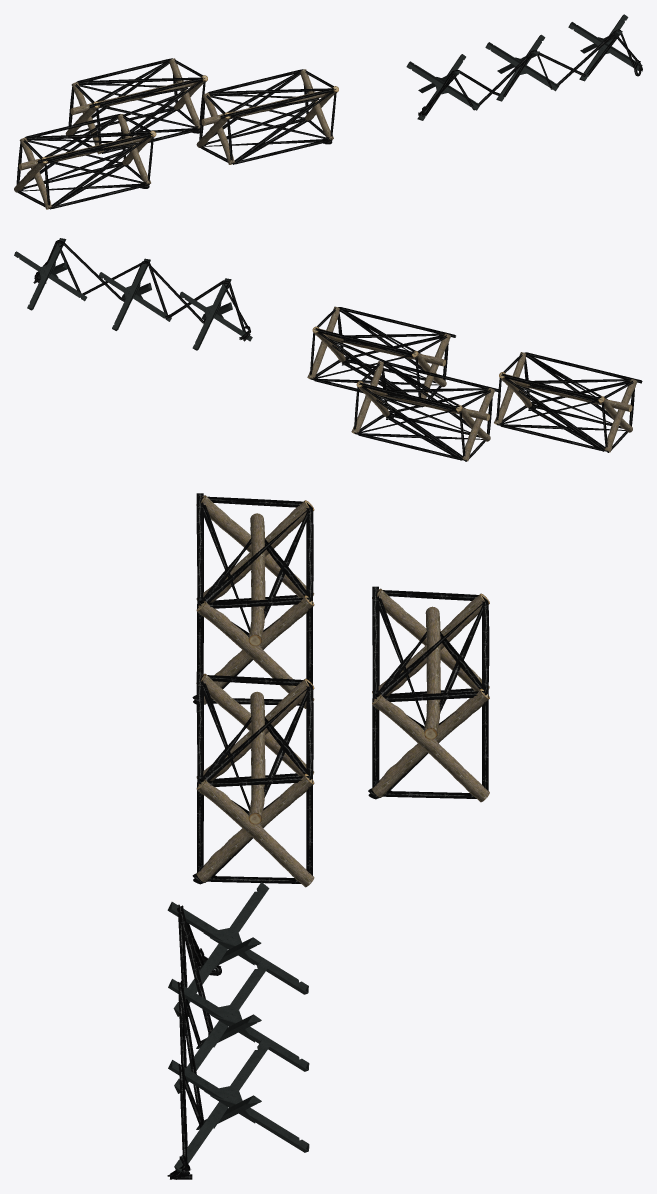
The model's file is hedgehog_tank_trap_and_barbed_wire_obstacles.glb.
3 renders of one model, top to bottom at view 1: azimuth 30°, elevation 25°; view 2: azimuth 150°, elevation 25°; view 3: azimuth 270°, elevation 25°, orthographic. The views are drawn at different scales.
Parts seen in each view (by area): view 1: LogTrap_5, LogTrap.001_10, LogTrap.002_11, Hedgehog.001_2, Hedgehog_1, Wire_0, Hedgehog.002_3, Wire.001_4; view 2: LogTrap.001_10, LogTrap.002_11, LogTrap_5, Hedgehog_1, Hedgehog.001_2, Hedgehog.002_3, Wire.001_4, Wire_0; view 3: LogTrap.002_11, LogTrap_5, LogTrap.001_10, Hedgehog_1, Hedgehog.001_2, Hedgehog.002_3, Wire.001_4, Wire_0.
Part boxes in pixels (bbox=[...]): LogTrap_5: bbox=[196, 69, 338, 164]; LogTrap.001_10: bbox=[14, 114, 156, 209]; LogTrap.002_11: bbox=[65, 58, 207, 154]; Hedgehog.001_2: bbox=[485, 34, 559, 101]; Hedgehog_1: bbox=[568, 14, 642, 81]; Wire_0: bbox=[418, 29, 640, 116]; Hedgehog.002_3: bbox=[406, 54, 480, 120]; Wire.001_4: bbox=[421, 30, 642, 114]; LogTrap.001_10: bbox=[494, 352, 642, 452]; LogTrap.002_11: bbox=[351, 361, 499, 461]; LogTrap_5: bbox=[307, 306, 455, 407]; Hedgehog_1: bbox=[14, 238, 87, 310]; Hedgehog.001_2: bbox=[99, 258, 171, 330]; Hedgehog.002_3: bbox=[179, 278, 252, 350]; Wire.001_4: bbox=[33, 240, 250, 332]; Wire_0: bbox=[34, 240, 250, 341]; LogTrap.002_11: bbox=[368, 586, 489, 802]; LogTrap_5: bbox=[192, 671, 314, 887]; LogTrap.001_10: bbox=[192, 493, 314, 708]; Hedgehog_1: bbox=[168, 1040, 309, 1172]; Hedgehog.001_2: bbox=[168, 959, 309, 1093]; Hedgehog.002_3: bbox=[167, 882, 308, 1016]; Wire.001_4: bbox=[167, 904, 213, 1179]; Wire_0: bbox=[178, 904, 221, 1170].
Size of the model in its own units: 12.68 by 1.12 by 2.93.
4 materials, 4 textured.
